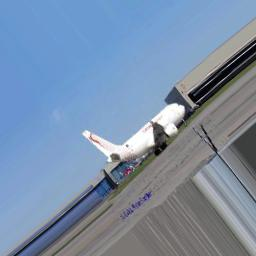Airplane: (80, 101, 187, 167)
